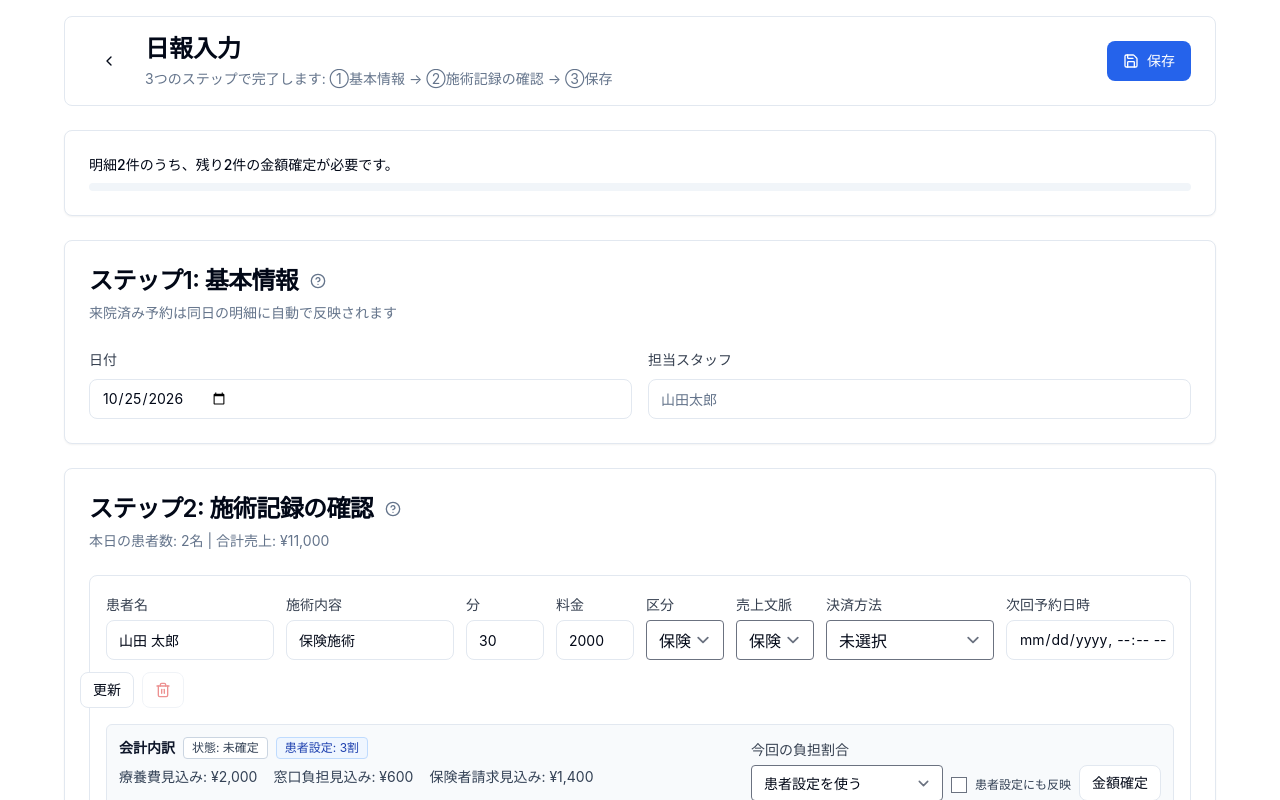
it: DailyReportInputPage Phase 4A-5 pricing UI › shows the saved DB totals and reloads stale items after saving
The width and height of the screenshot is (1280, 800).
Expected: the text "患者設定: 3割" is shown, [276,737,368,759]
Click the button "保存".
click(1149, 61)  # box [1107,41,1191,81]
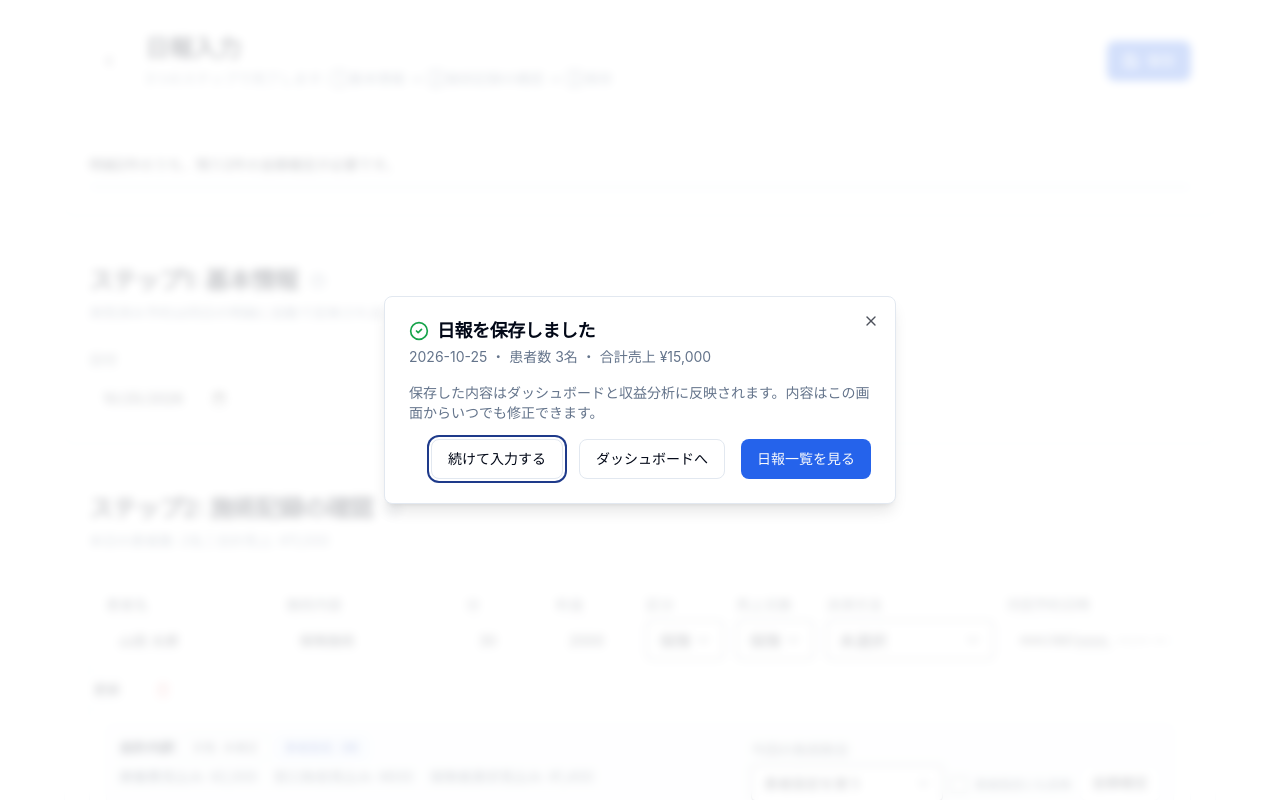
Expected: the text "2026-10-25 ・ 患者数 3名 ・ 合計売上 ¥15,000" is shown, [409,348,711,365]
